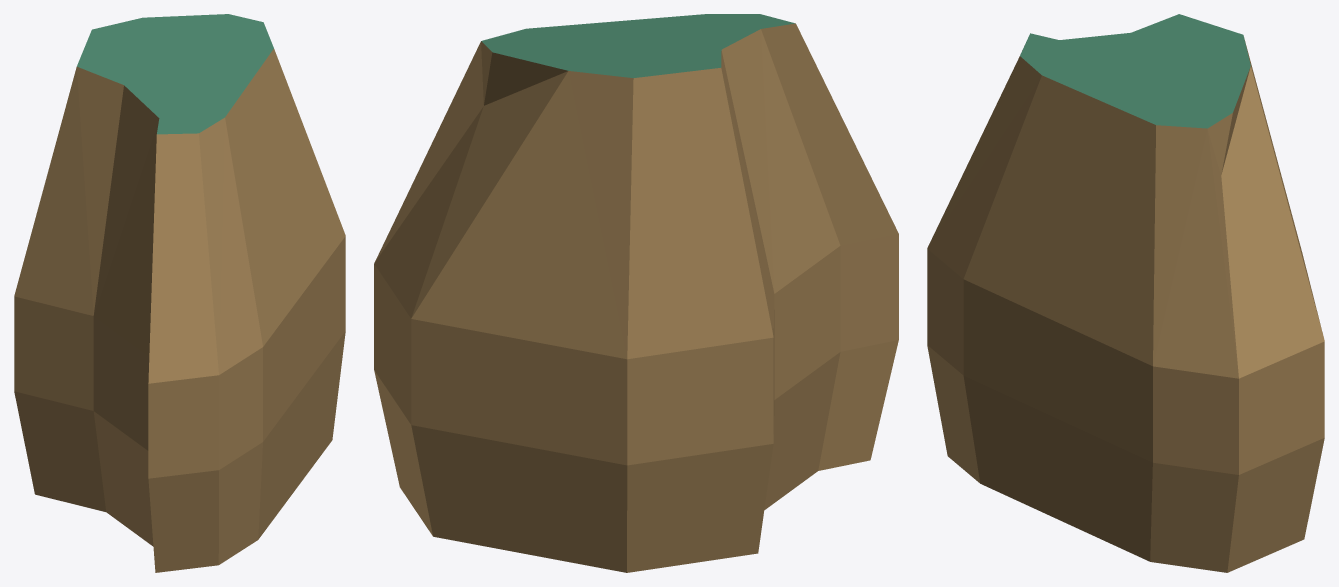
Rendered from Rock_Large_Mesa_Eroded_Moss_Grass_10.FBX.
The picture shows the model from 3 angles, left to right: view 1: azimuth 30°, elevation 25°; view 2: azimuth 150°, elevation 25°; view 3: azimuth 270°, elevation 25°; orthographic projection. The views are drawn at different scales.
Parts seen in each view (by area): view 1: Rock_Large_Mesa_Eroded_Moss_Grass_10; view 2: Rock_Large_Mesa_Eroded_Moss_Grass_10; view 3: Rock_Large_Mesa_Eroded_Moss_Grass_10.
Boxes of the visible parts, x1,y1,x2,y2 form: Rock_Large_Mesa_Eroded_Moss_Grass_10: (14, 14, 345, 572); Rock_Large_Mesa_Eroded_Moss_Grass_10: (374, 14, 898, 572); Rock_Large_Mesa_Eroded_Moss_Grass_10: (927, 14, 1324, 572).
Size of the model in its own units: 4140 by 5002 by 4185.
